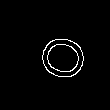O_W: (24, 26, 86, 84)
